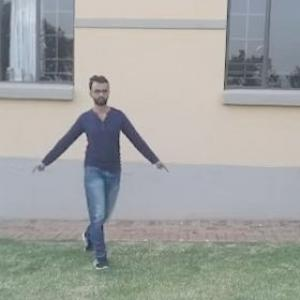land: (32, 74, 157, 246)
